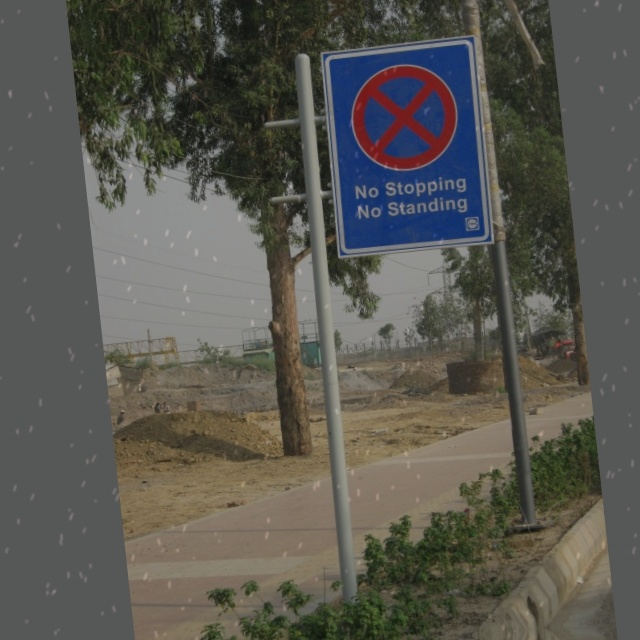No_Stopping_or_Standing: (336, 44, 469, 182)
